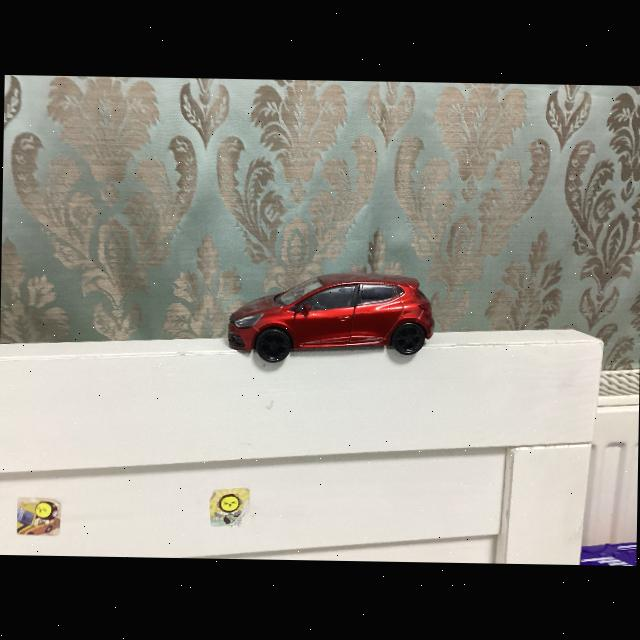Dogru_Jant: (255, 329, 290, 363), (392, 324, 423, 354)
